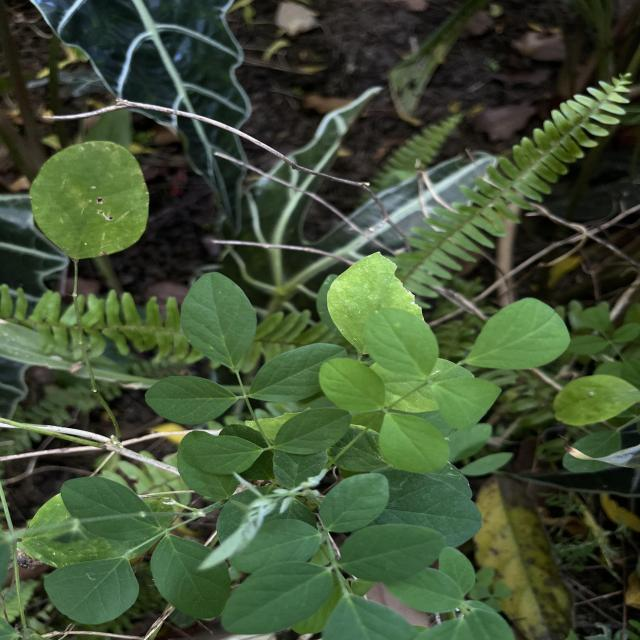Clitoria ternatea: (180, 271, 258, 369), (149, 534, 232, 620), (42, 556, 142, 626), (248, 342, 347, 404), (144, 374, 238, 426), (273, 406, 353, 456), (181, 434, 264, 476)
